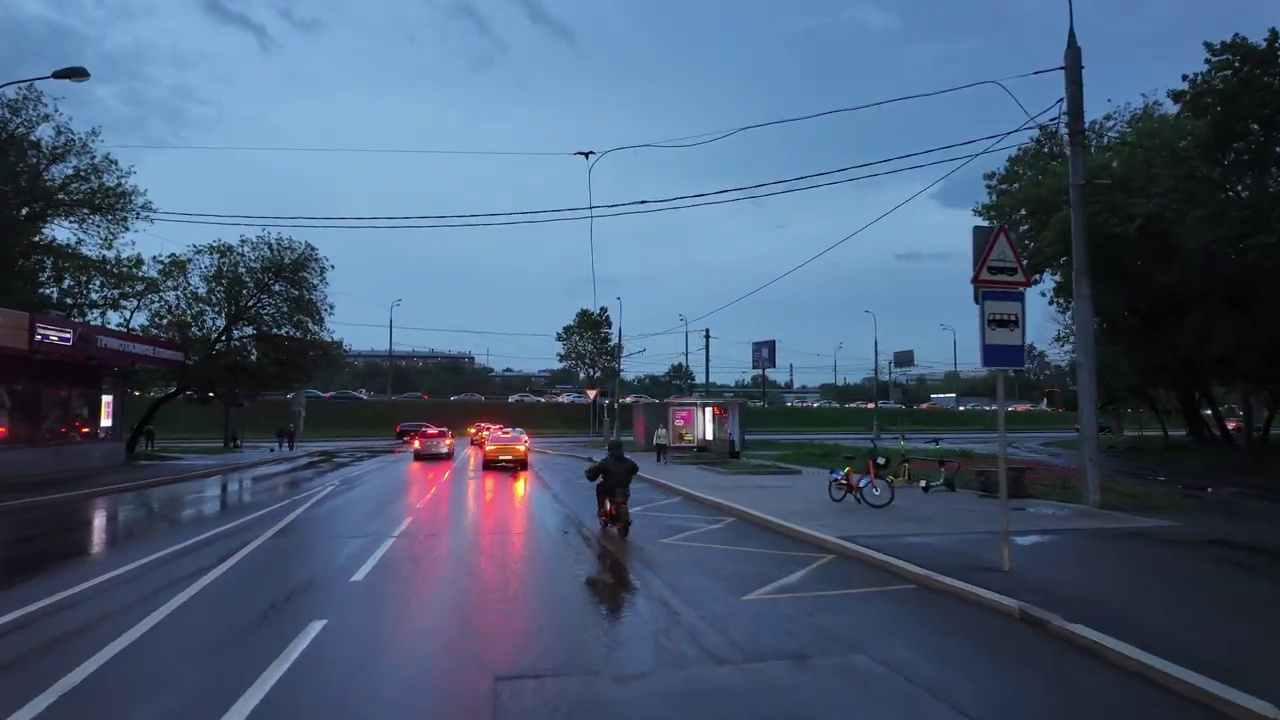apagada: (50, 61, 91, 88)
